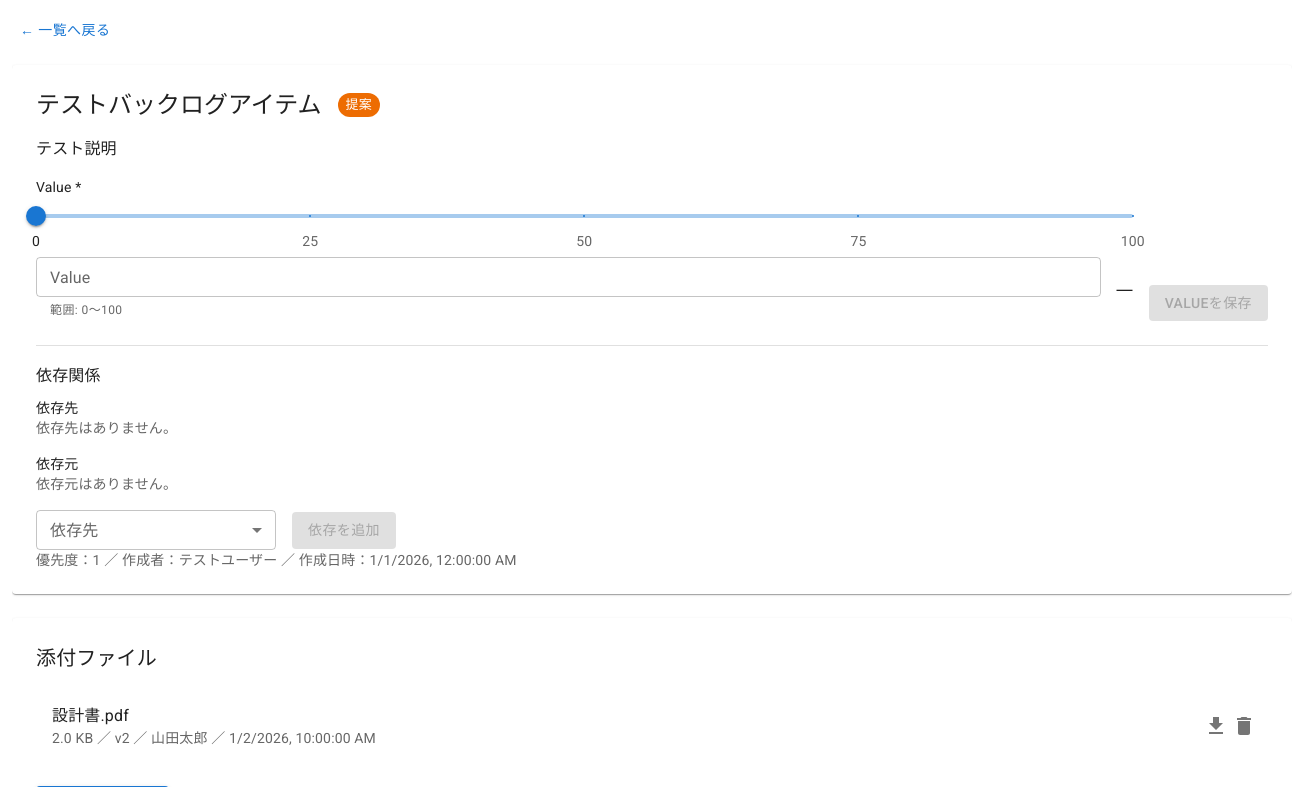
Test: BacklogItemDetail › 添付ファイル › 削除ボタンを押したとき、deleteAttachment が呼ばれ一覧から消える
The image size is (1292, 787).
Expected: the text "設計書.pdf" is shown, [52,706,129,725]
Click the button named "設計書.pdfを削除" at (1244,726), box [1224,706,1264,746]
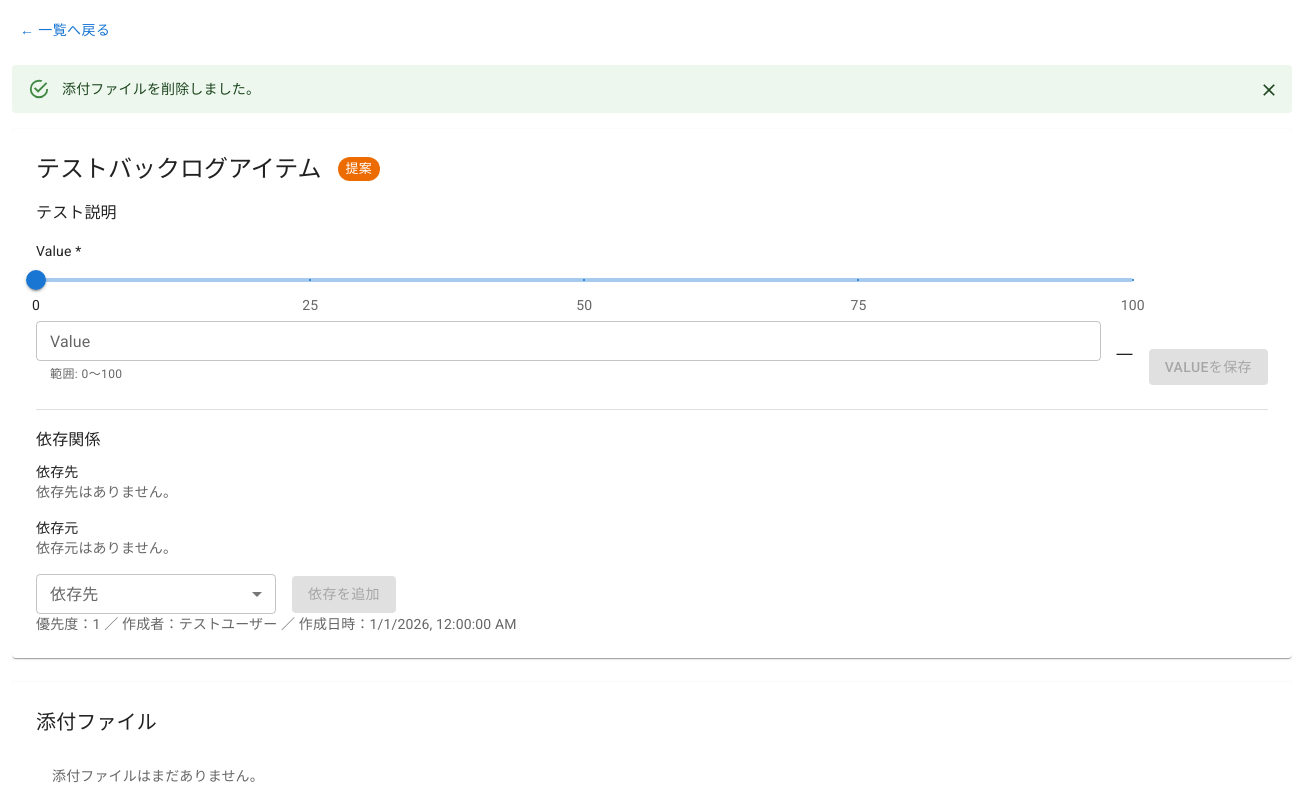
Now the text "設計書.pdf" is gone
